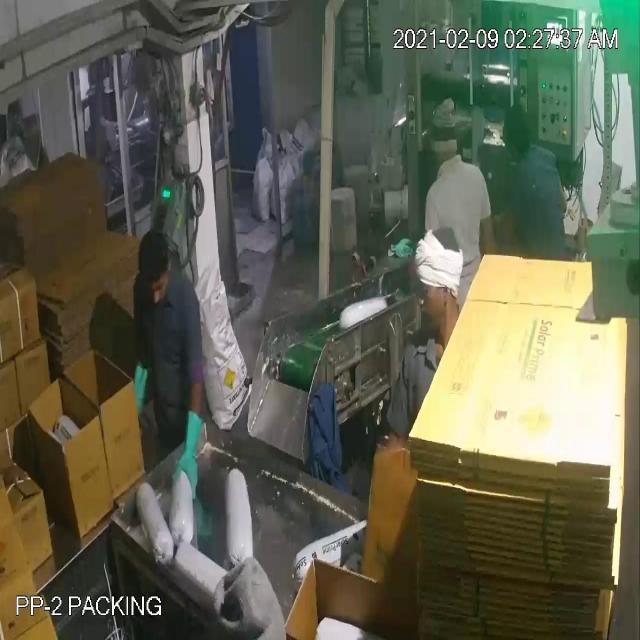Gloves: (26, 62, 186, 448)
